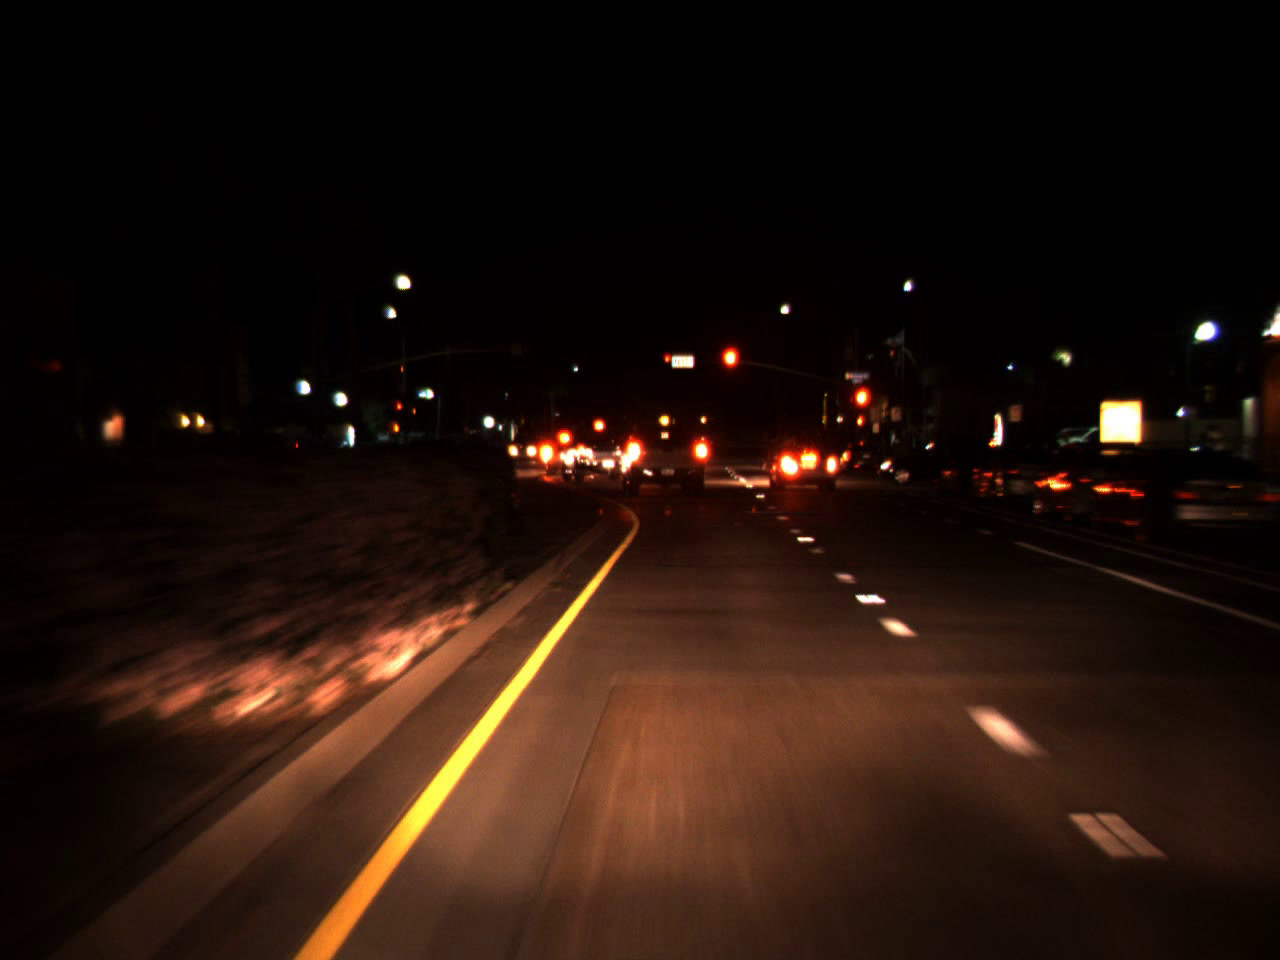stop: (719, 343, 741, 391), (851, 383, 873, 431), (663, 354, 673, 370), (397, 402, 403, 418)
